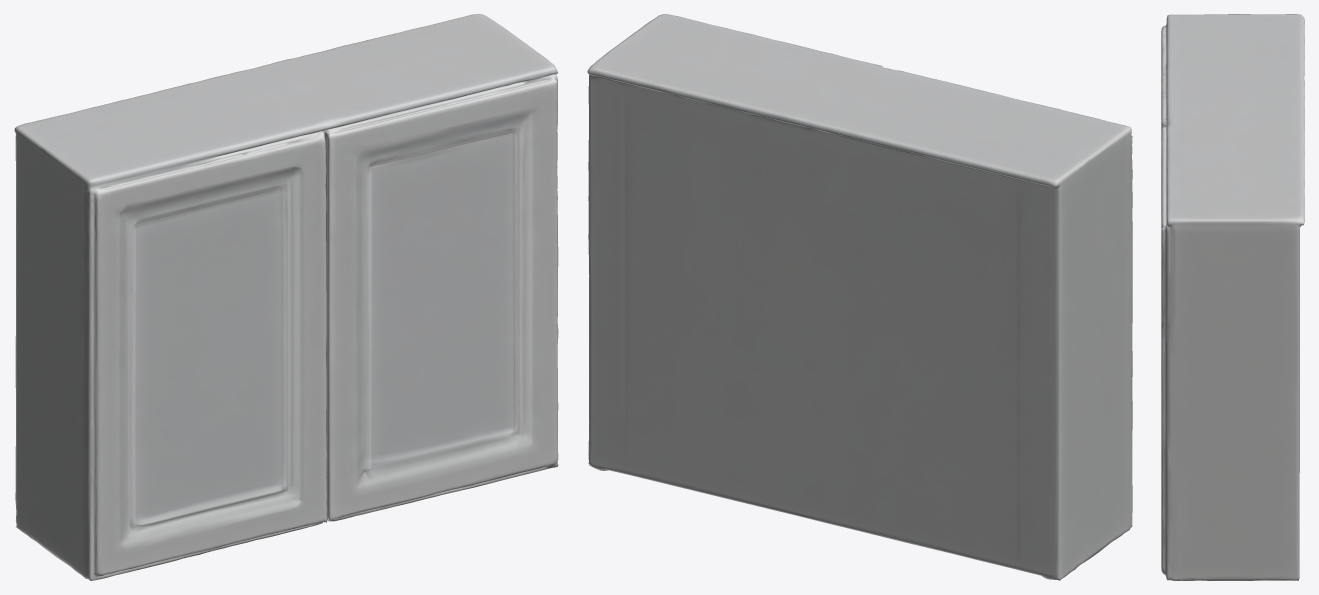
The model's file is sink-upper-cabinet-v2.glb.
3 views of the same model, side by side, from view 1: azimuth 30°, elevation 25°; view 2: azimuth 150°, elevation 25°; view 3: azimuth 270°, elevation 25° (orthographic). The views are drawn at different scales.
Visible parts, largest first — view 1: model; view 2: model; view 3: model.
Boxes of the visible parts, box(x1,y1,x2,y2) form: model: box(14, 14, 558, 580); model: box(587, 14, 1132, 580); model: box(1161, 14, 1304, 580).
Bounding box in the file's own units: 1.9 × 1.55 × 0.555.
Materials: 1 (1 with a texture image).
